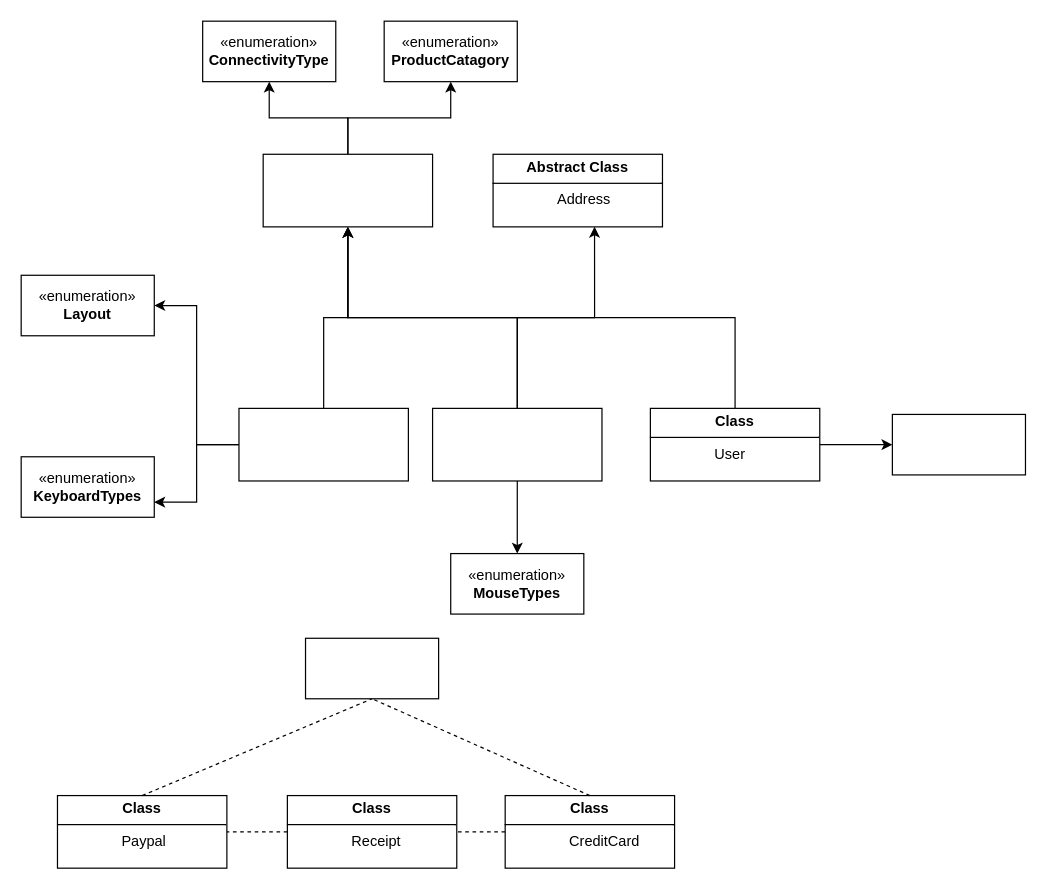
Image size: 1047x889. Some labels were removed from this diagram. The shapes that lost their labels are listed below. From the top down, each one's box as (x1, y1, x2, y2) in pixels, then its label:
(262, 153, 433, 227): Abstract Class Product
(238, 407, 408, 481): Class Keyboard
(431, 407, 602, 481): Class Mouse
(891, 413, 1025, 475): «enumeration» Usertype
(304, 637, 439, 699): «interface» PaymentMethod
